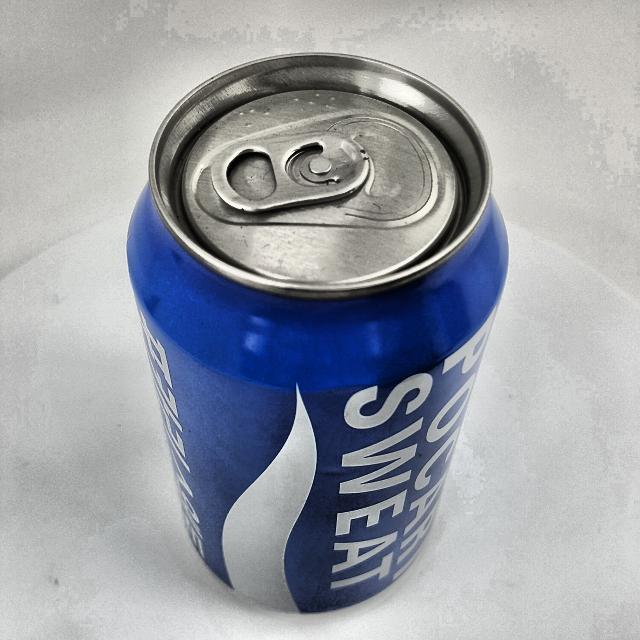pocarisweat: (128, 54, 508, 612)
